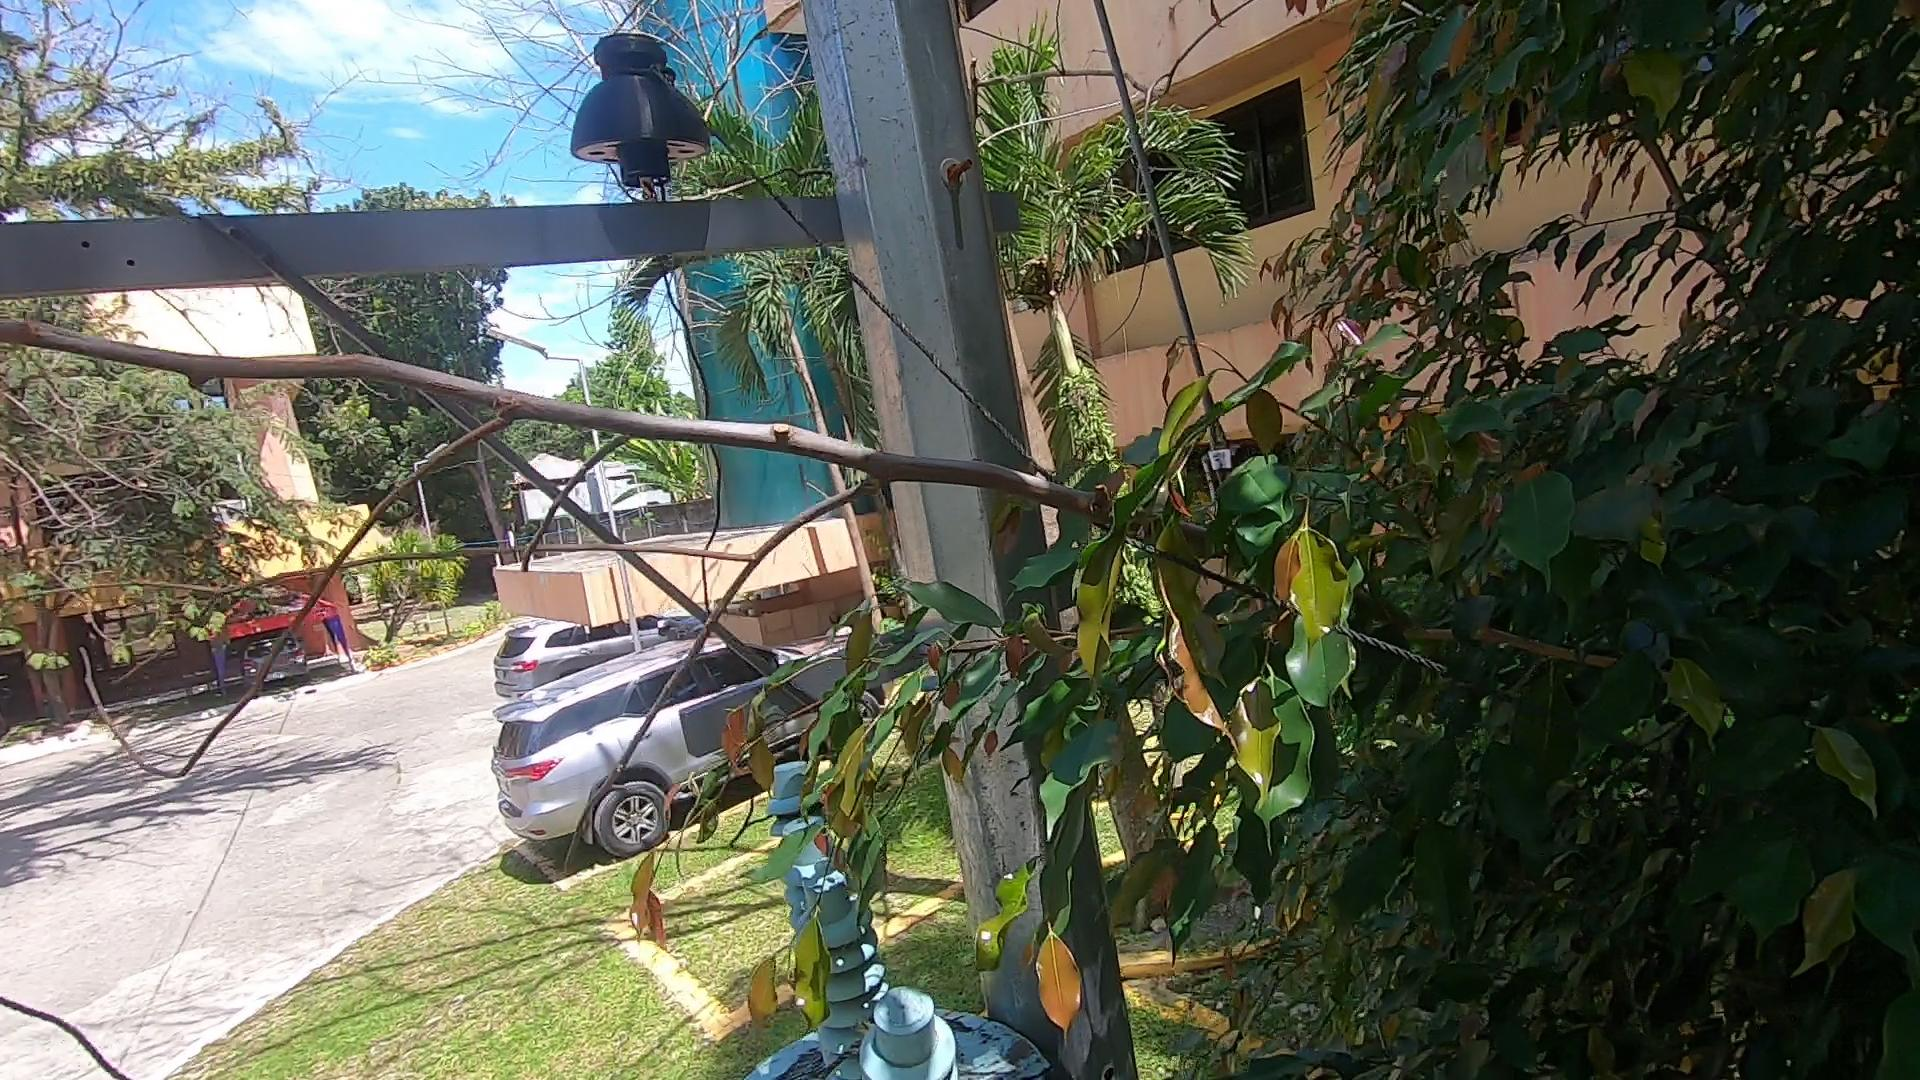tree branch: (1, 293, 1222, 823)
